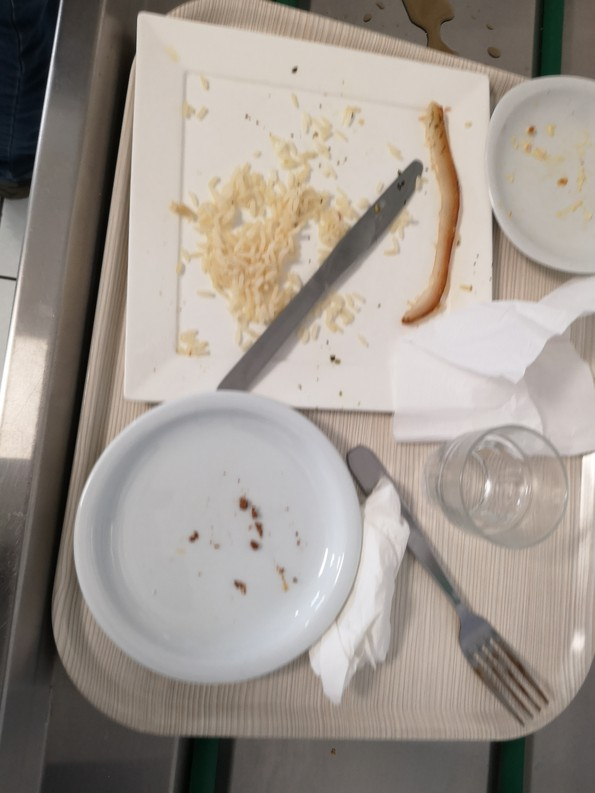cup: (431, 422, 574, 549)
cutlery: (211, 153, 432, 406), (355, 449, 553, 727)
orga: (191, 150, 286, 318), (422, 105, 479, 321)
trash: (387, 312, 595, 436), (316, 481, 407, 679)
